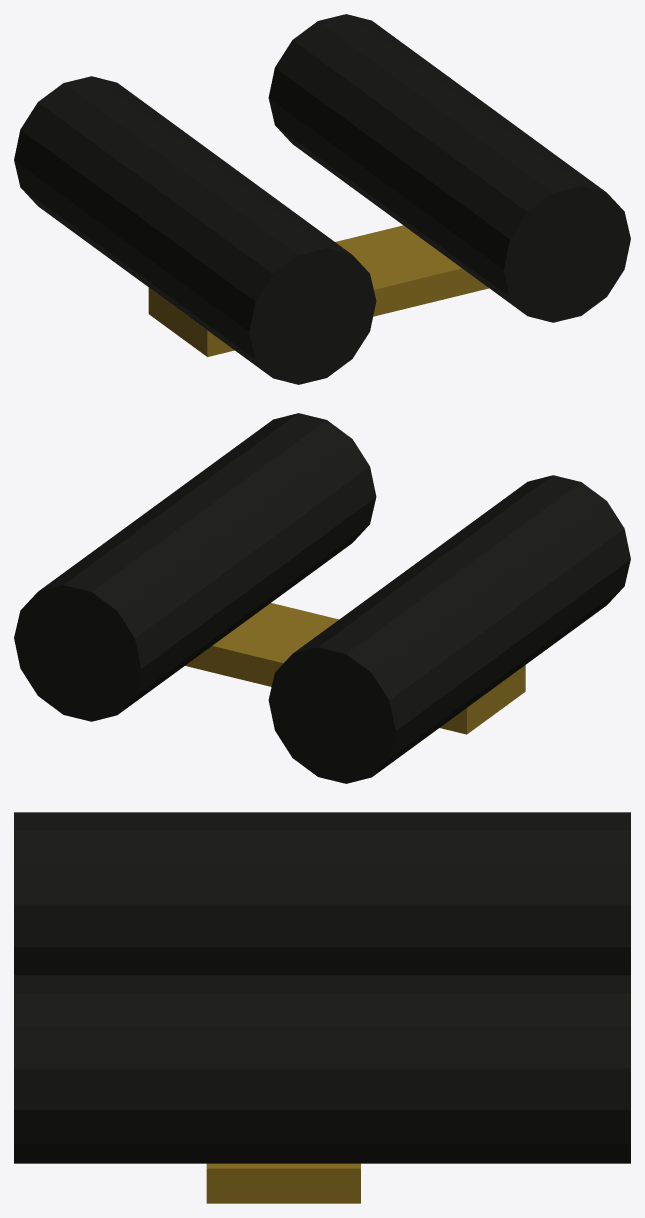
The model's file is battery_pack.obj.
The picture shows the model from 3 angles, top to bottom: view 1: azimuth 30°, elevation 25°; view 2: azimuth 150°, elevation 25°; view 3: azimuth 270°, elevation 25°; orthographic projection. The views are drawn at different scales.
Visible parts, largest first — view 1: battery_pack; view 2: battery_pack; view 3: battery_pack.
Boxes of the visible parts, x1,y1,x2,y2 form: battery_pack: [14, 14, 630, 384]; battery_pack: [14, 413, 630, 783]; battery_pack: [14, 812, 630, 1203].
Size of the model in its own units: 0.3 by 0.1137 by 0.32.
